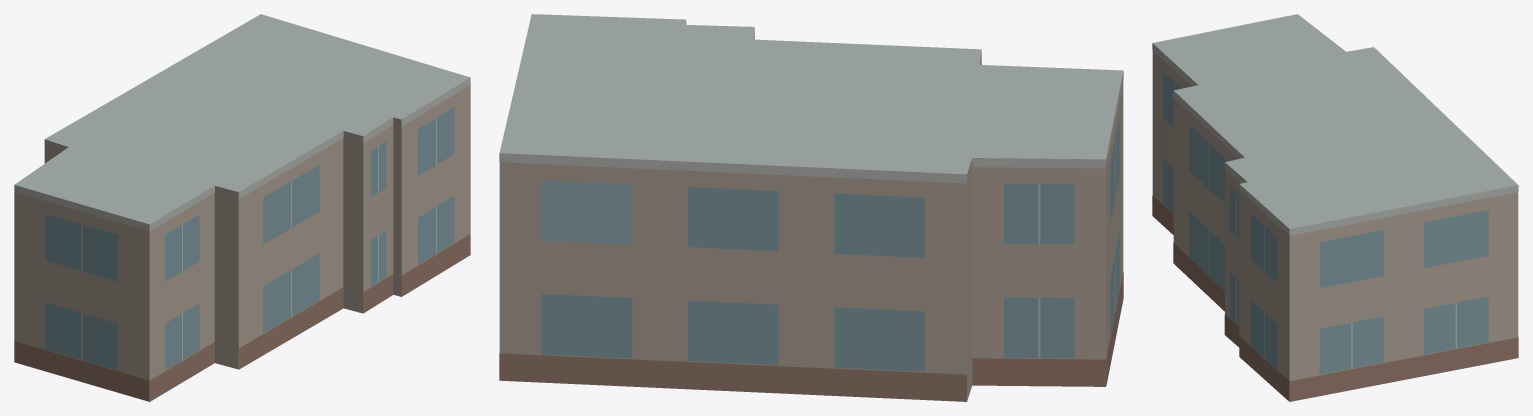
Rendered from survey-upis-32653170.glb.
3 renders of one model, left to right at view 1: azimuth 30°, elevation 25°; view 2: azimuth 150°, elevation 25°; view 3: azimuth 270°, elevation 25°, orthographic. The views are drawn at different scales.
Parts seen in each view (by area): view 1: survey-upis-32653170.tmp; view 2: survey-upis-32653170.tmp; view 3: survey-upis-32653170.tmp.
Part boxes in pixels (bbox=[...]): survey-upis-32653170.tmp: bbox=[14, 14, 470, 401]; survey-upis-32653170.tmp: bbox=[499, 14, 1123, 401]; survey-upis-32653170.tmp: bbox=[1152, 14, 1518, 401].
Size of the model in its own units: 16.28 by 6.1 by 11.71.
